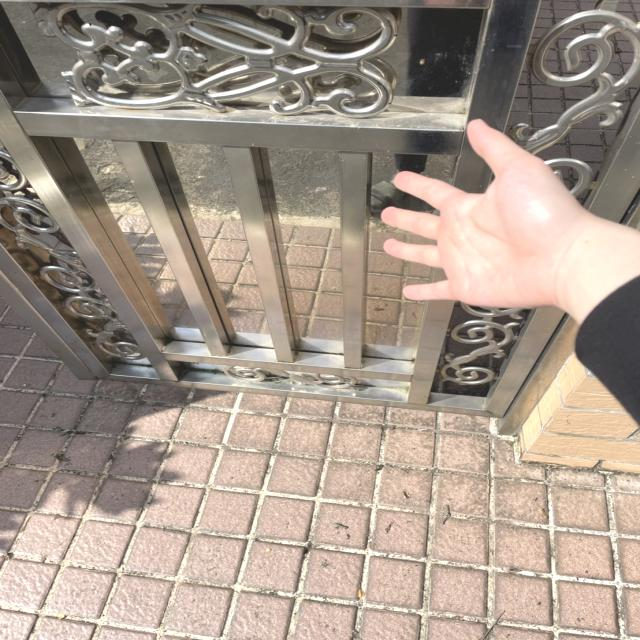no_glove: (358, 106, 596, 324)
